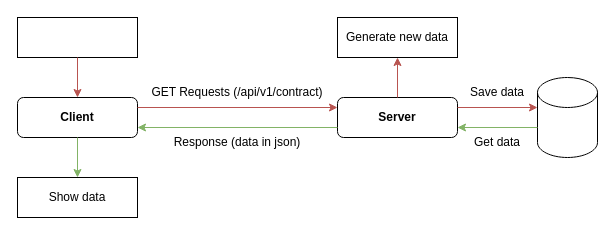
This 615x235 diagram has some shape labels left out. Here are the shapes that lost their labels. From the top down, the centre of each, then its label:
At (x=77, y=37): "Click get data".
At (x=567, y=117): "DB".
